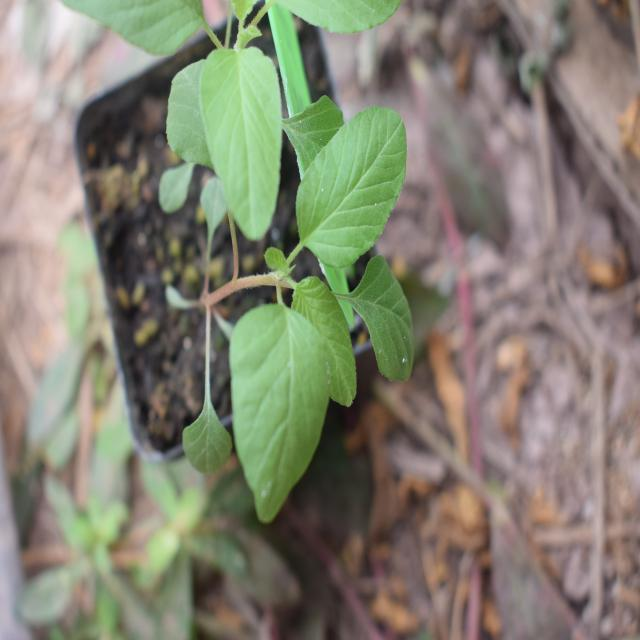pigweed: (146, 29, 420, 483)
